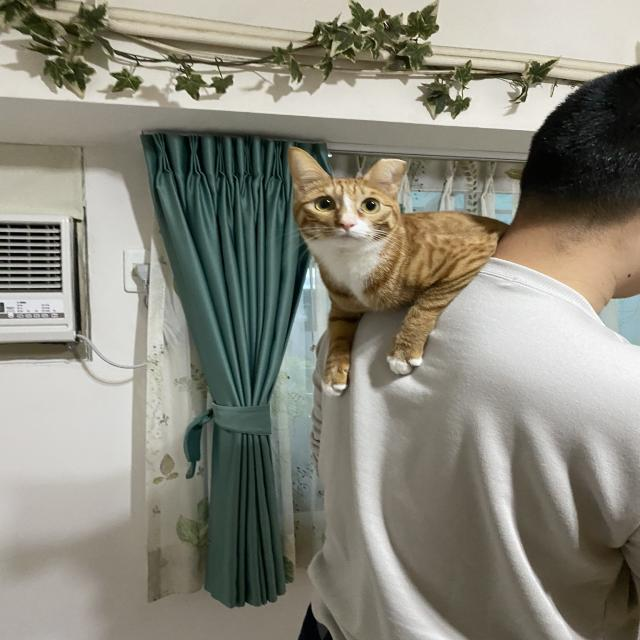cat3: (277, 139, 511, 397)
